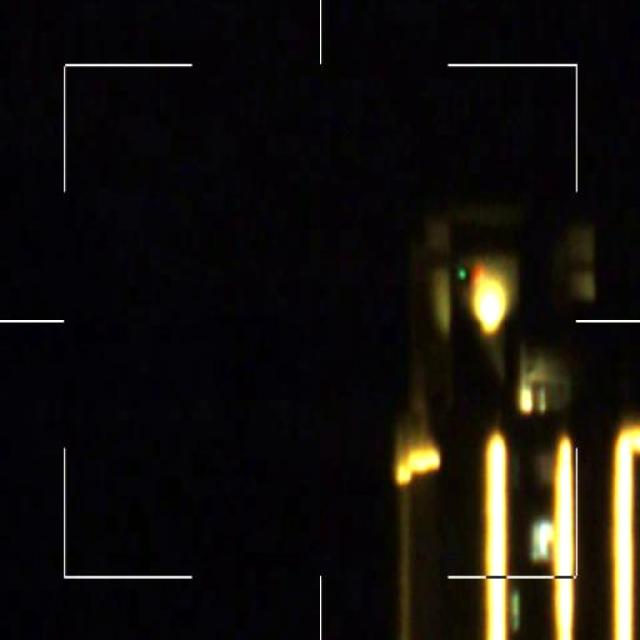bird: (455, 260, 486, 302)
